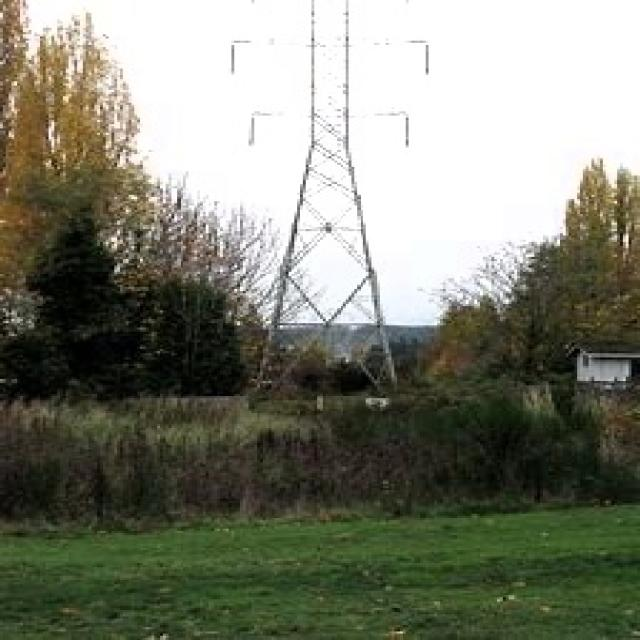utility poles: (332, 287, 497, 393), (180, 250, 306, 387)
